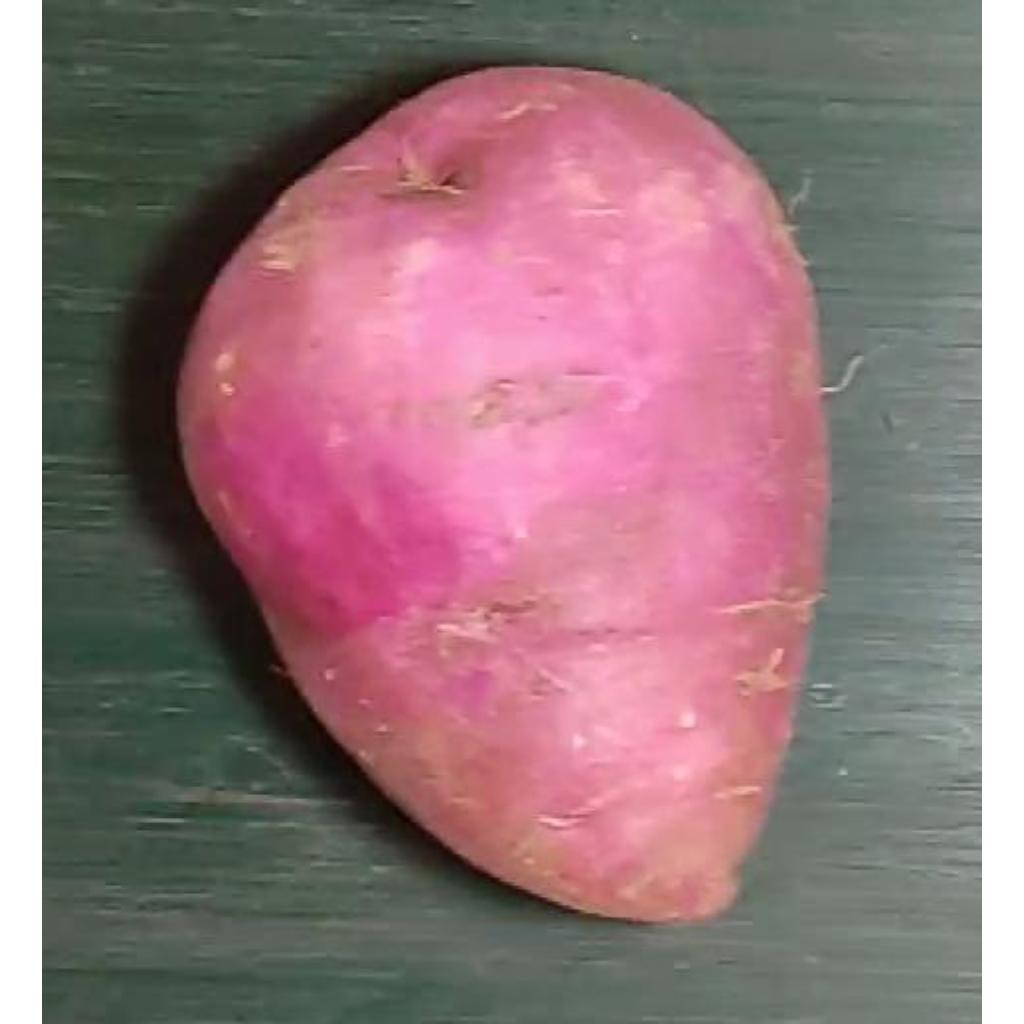Sweet Potato: (174, 65, 831, 927)
